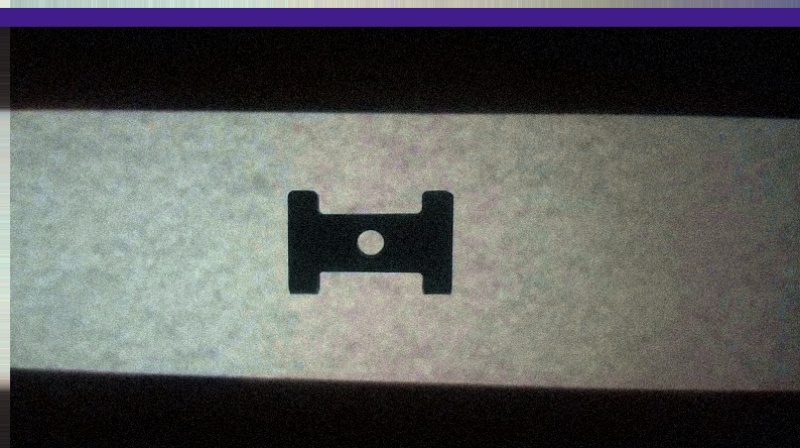O002: (283, 186, 456, 296)
